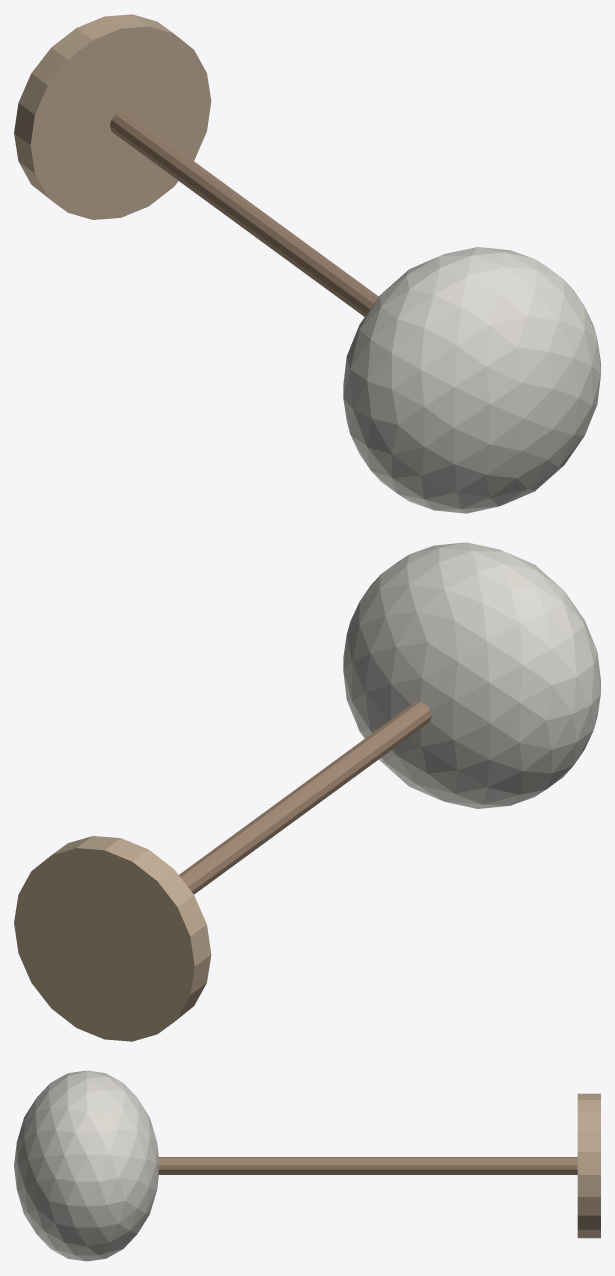
Rendered from floor_lamp.glb.
The picture shows the model from 3 angles, top to bottom: view 1: azimuth 30°, elevation 25°; view 2: azimuth 150°, elevation 25°; view 3: azimuth 270°, elevation 25°; orthographic projection. The views are drawn at different scales.
Visible parts, largest first — view 1: shade, base, stand; view 2: shade, base, stand; view 3: shade, stand, base.
Boxes of the visible parts, bbox=[...] form: shade: bbox=[343, 247, 600, 513]; base: bbox=[14, 14, 211, 219]; stand: bbox=[110, 111, 378, 316]; shade: bbox=[343, 542, 600, 808]; base: bbox=[14, 836, 211, 1041]; stand: bbox=[179, 701, 431, 894]; shade: bbox=[14, 1070, 158, 1261]; stand: bbox=[158, 1157, 577, 1174]; base: bbox=[577, 1093, 600, 1238].
Size of the model in its own units: 0.58 by 0.58 by 1.77.
